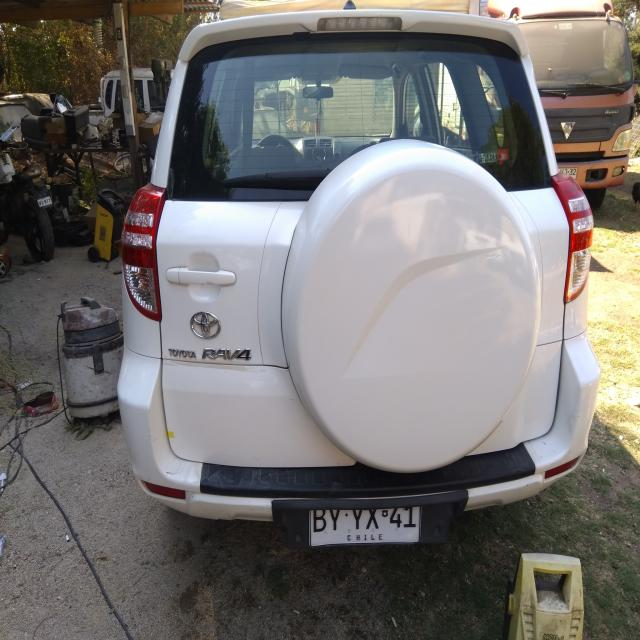patente: (307, 503, 422, 547)
